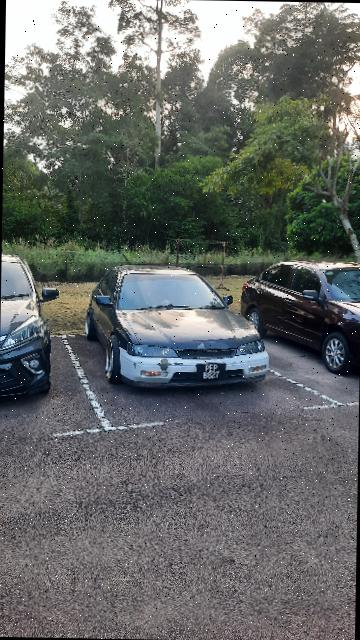License_Plate: (197, 363, 228, 383)
car: (84, 264, 275, 393)
